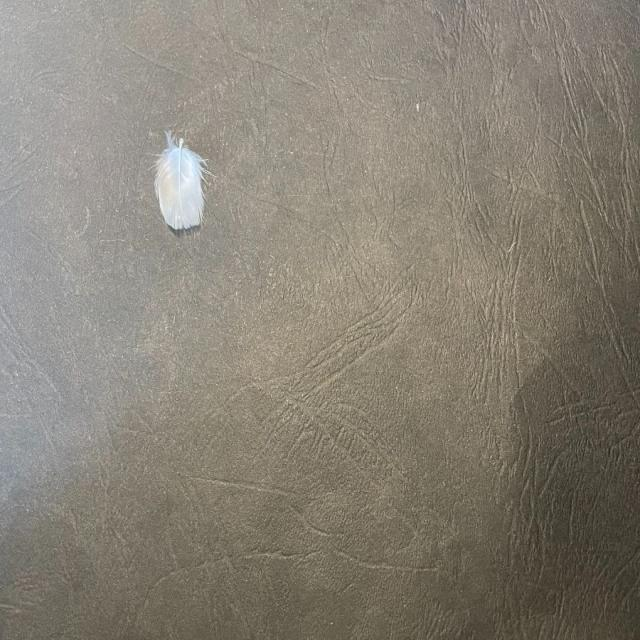feather: (144, 131, 208, 233)
